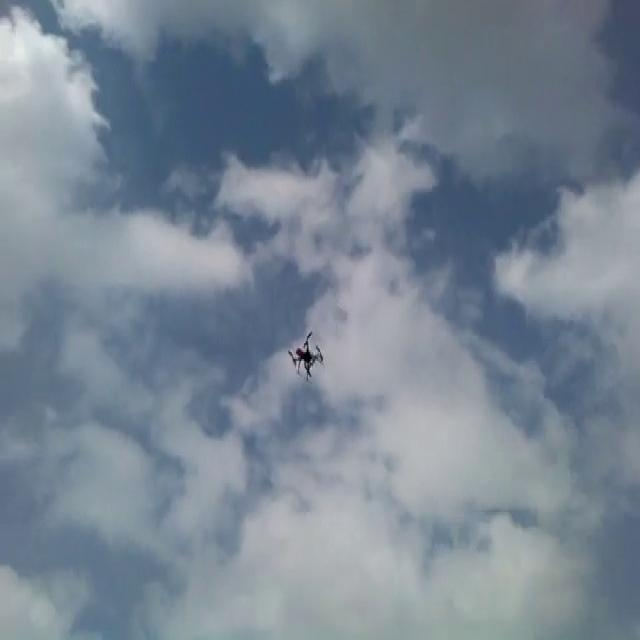drone: (286, 329, 326, 379)
